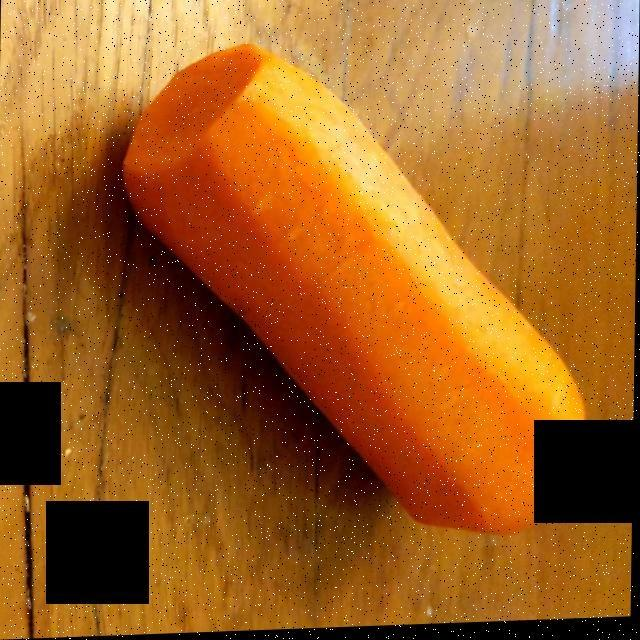carrot: (133, 55, 580, 533)
